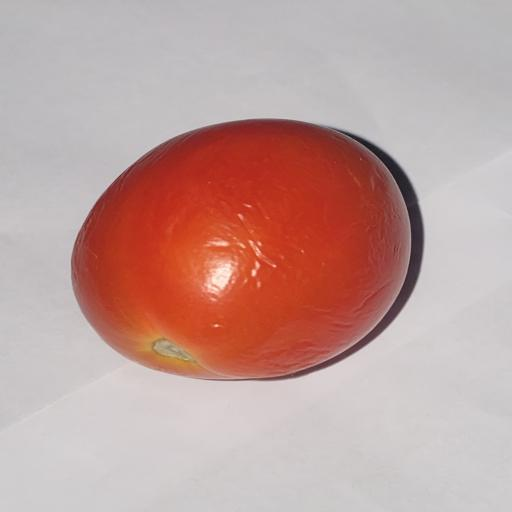spoiled: (73, 120, 411, 379)
